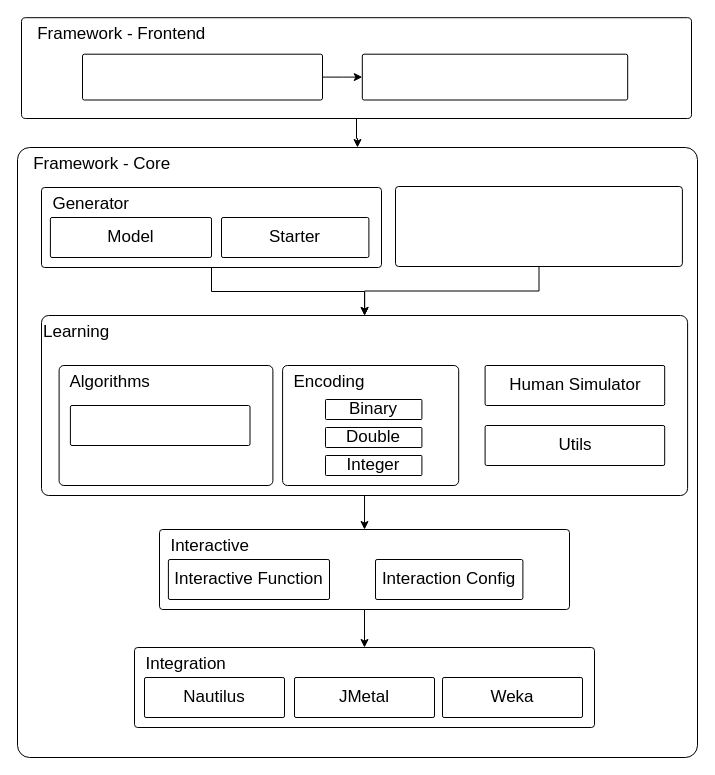
The diagram is 715 pixels wide and 775 high, and some of its shapes have lost their labels. Here are the shapes that lost their labels. From the top down, the centre of each, then its label:
At point 202,76: "Web Application".
At point 494,76: "Rest Application".
At point 538,226: "Adapter".
At point 159,425: "MLNSGAII".
